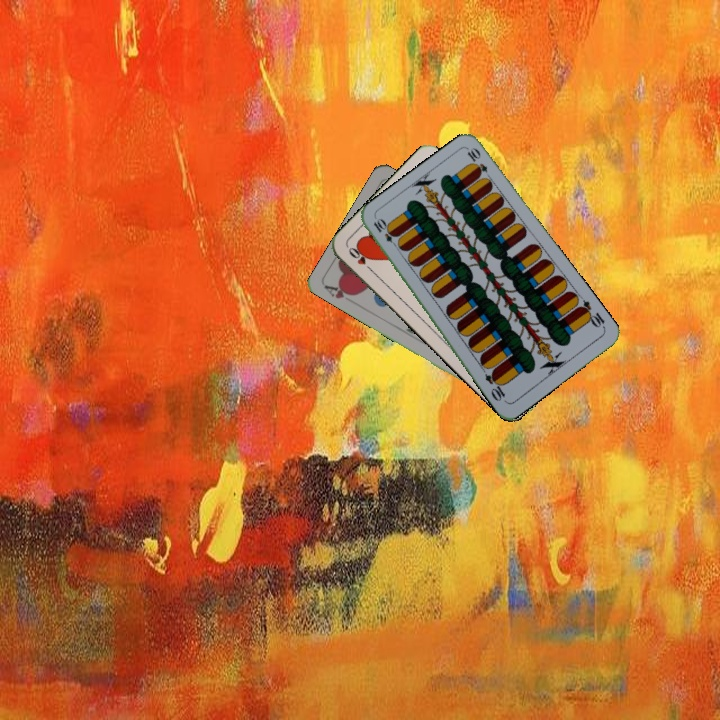E10: (574, 296, 608, 331), (369, 215, 401, 251)
HA: (320, 281, 359, 307)
HO: (344, 243, 376, 275)
